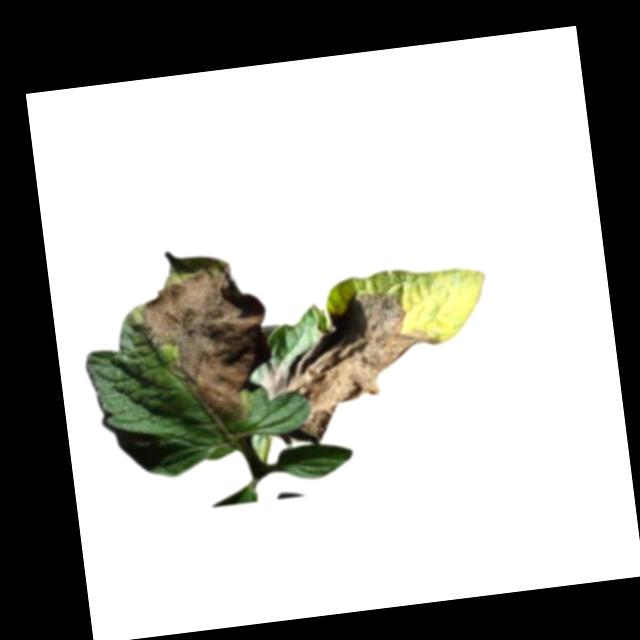Late_blight: (251, 280, 454, 449), (130, 238, 279, 434)
healthy: (274, 441, 354, 483)
